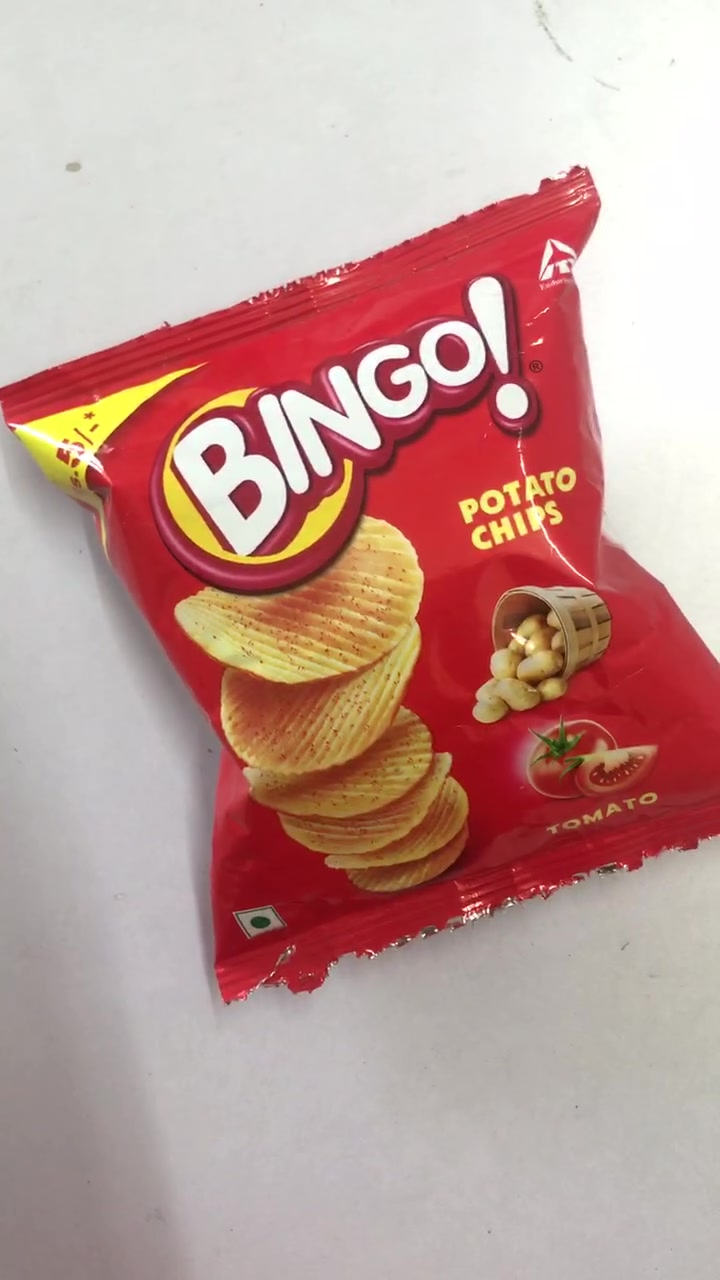Bingo: (8, 239, 720, 939)
